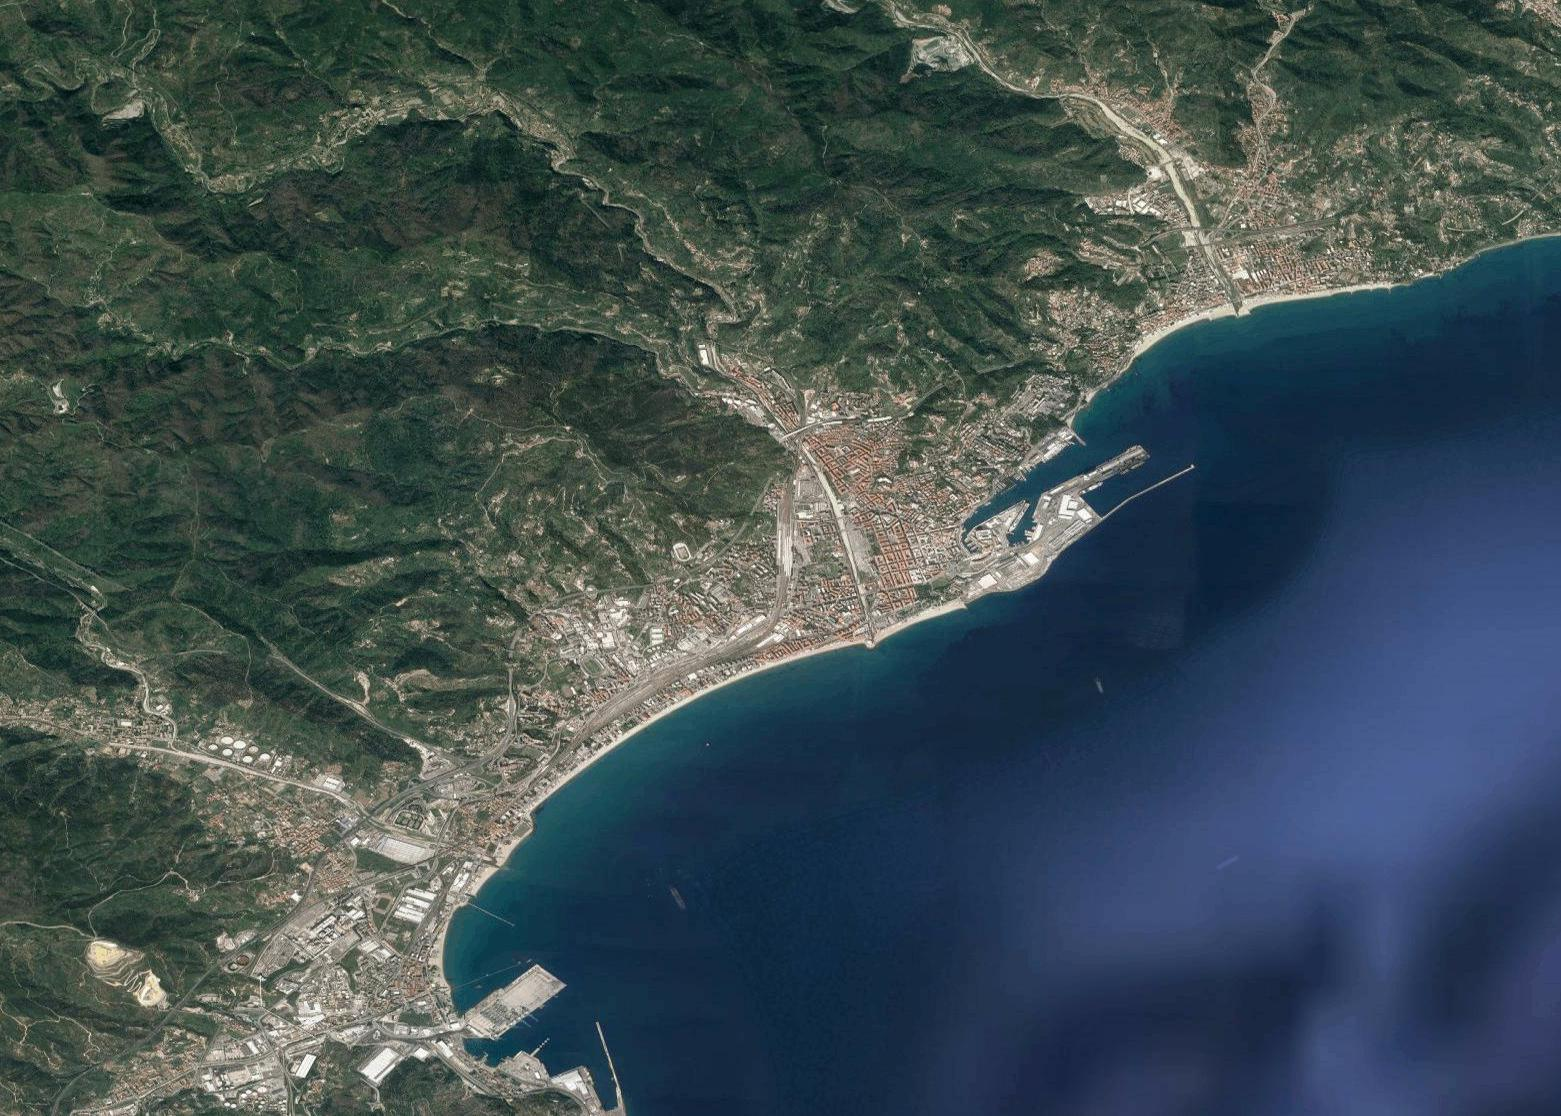harbor: (955, 422, 1202, 608), (445, 960, 631, 1116)
train_station: (773, 516, 798, 586)
